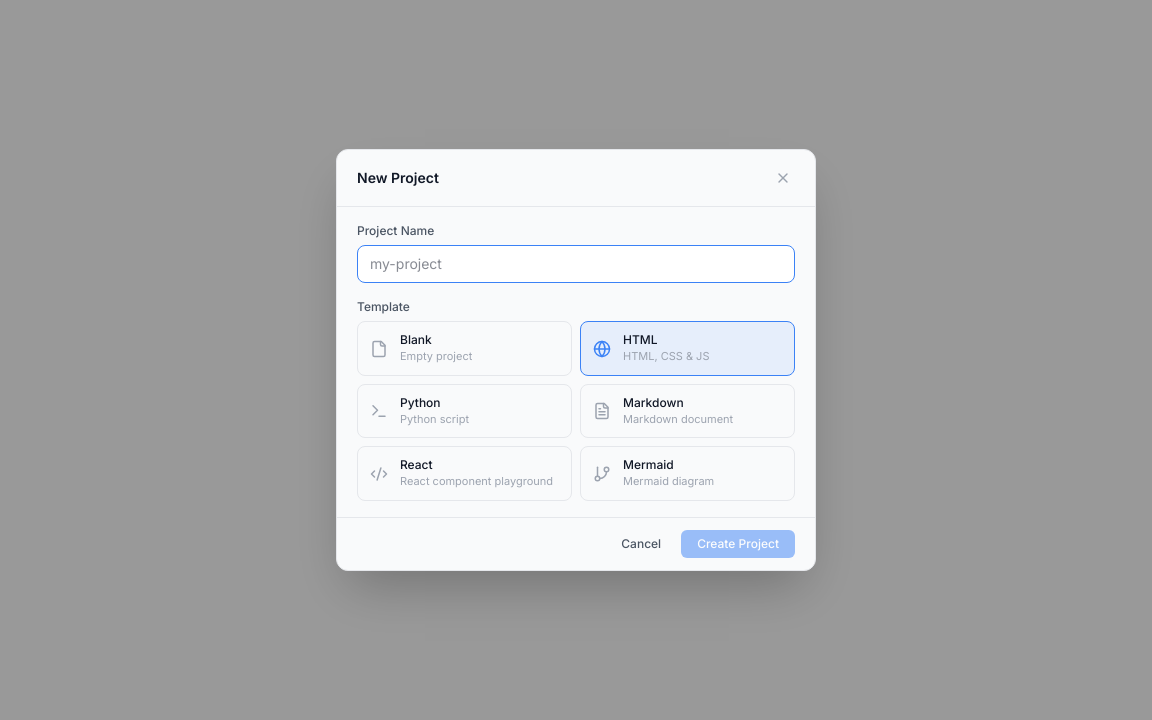
Test case: NewProjectDialog › should clear error when user types in the input
Trigger validation error by pressing Enter with empty name
Press Enter in the field with placeholder "my-project", box [357, 245, 795, 283]
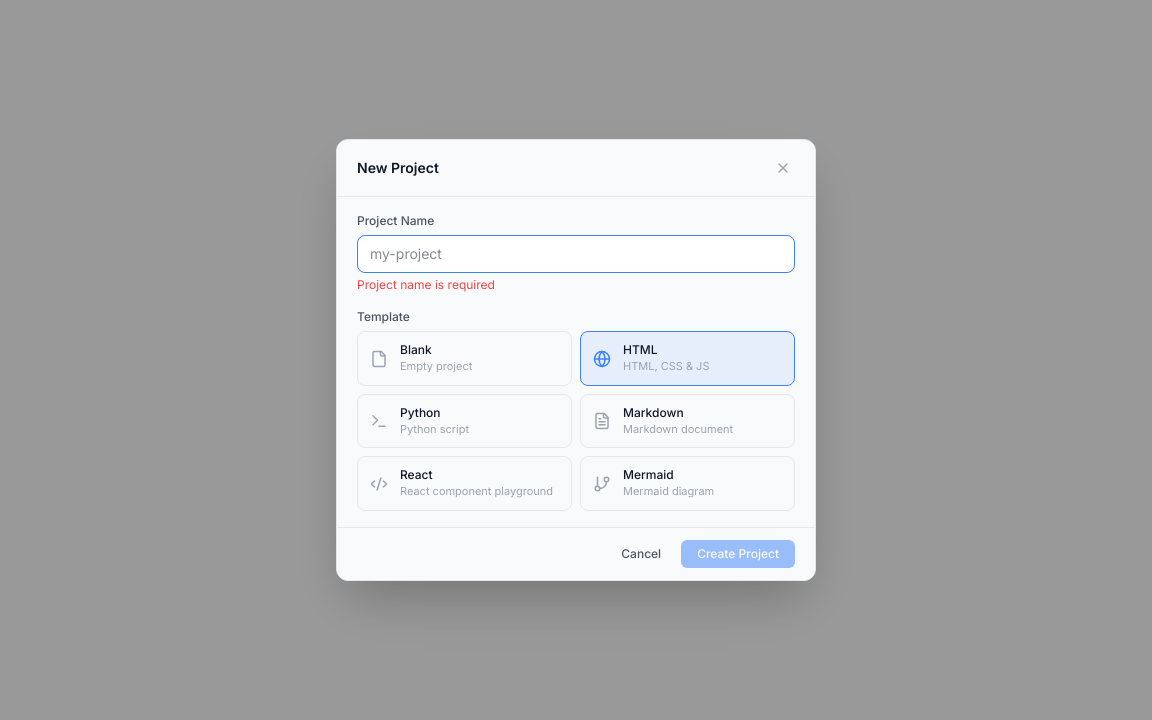
Expected: the text "Project name is required" is shown, [357, 277, 495, 292]
Type something - error should clear
Type "n" into the field with placeholder "my-project" at (576, 254), box [357, 235, 795, 273]
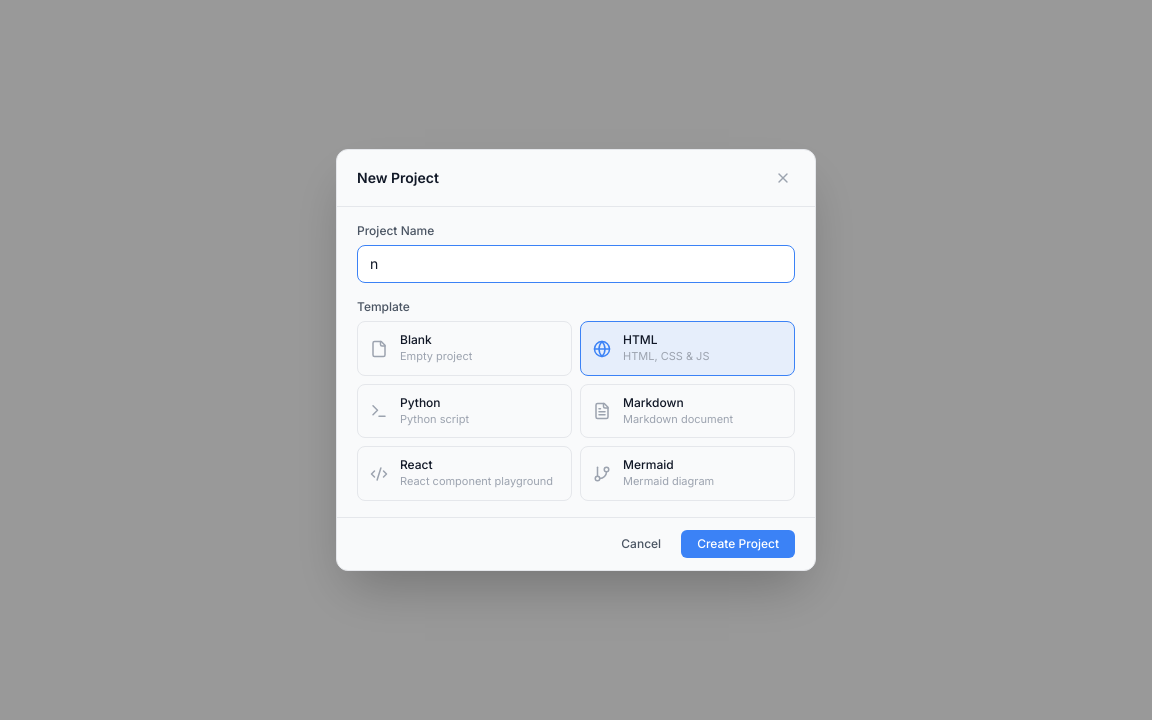
Expected: the text "Project name is required" is gone
